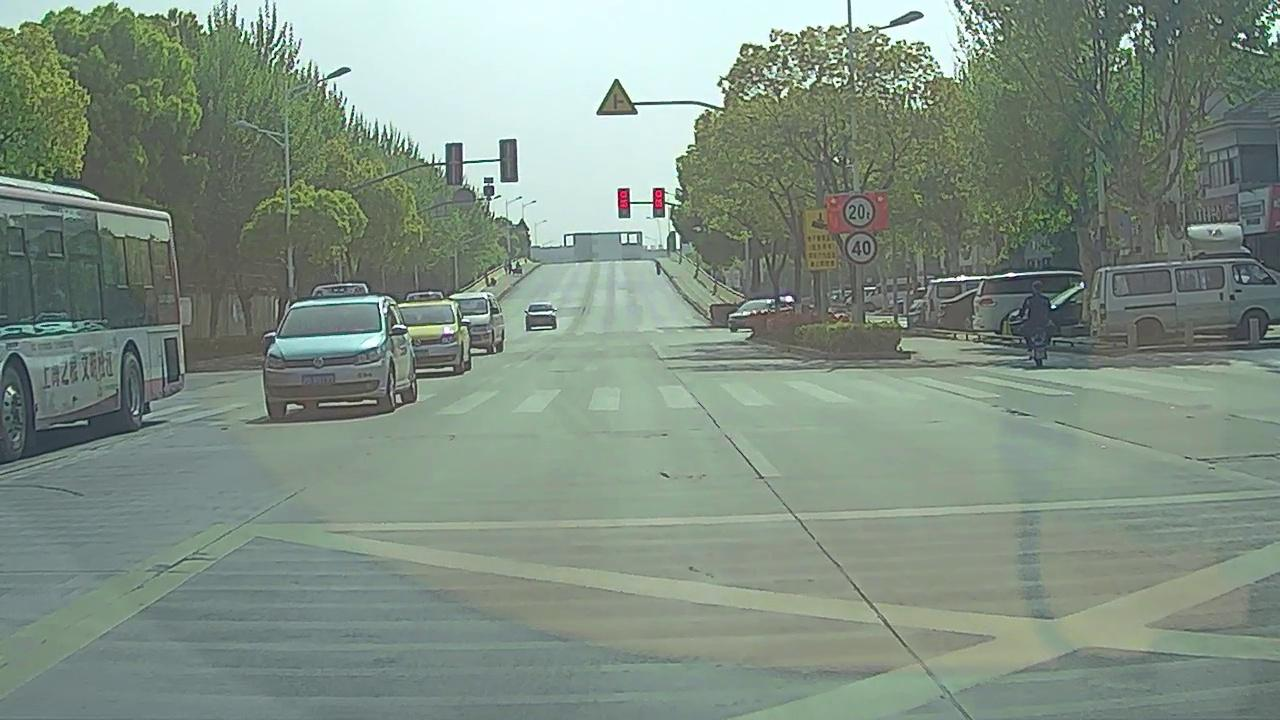traffic_light: (618, 188, 631, 218), (653, 188, 664, 217)
